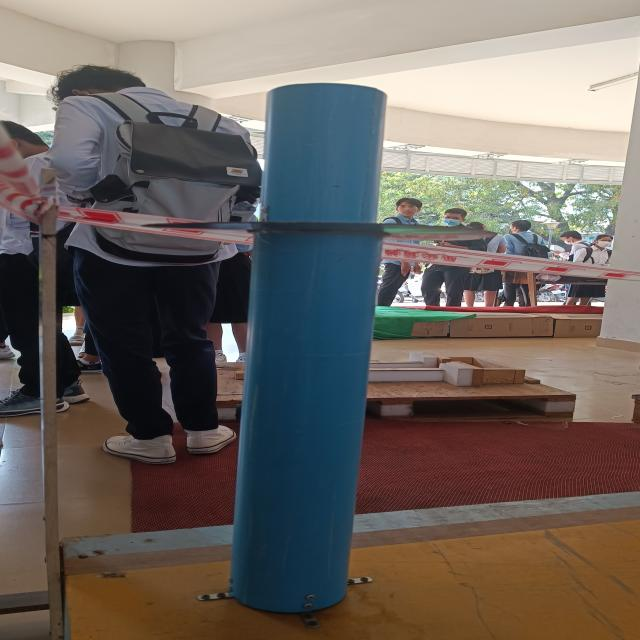pole: (167, 82, 498, 373)
